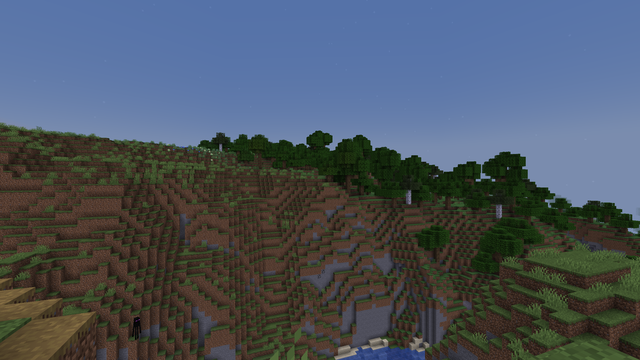endermens: (133, 315, 139, 339)
